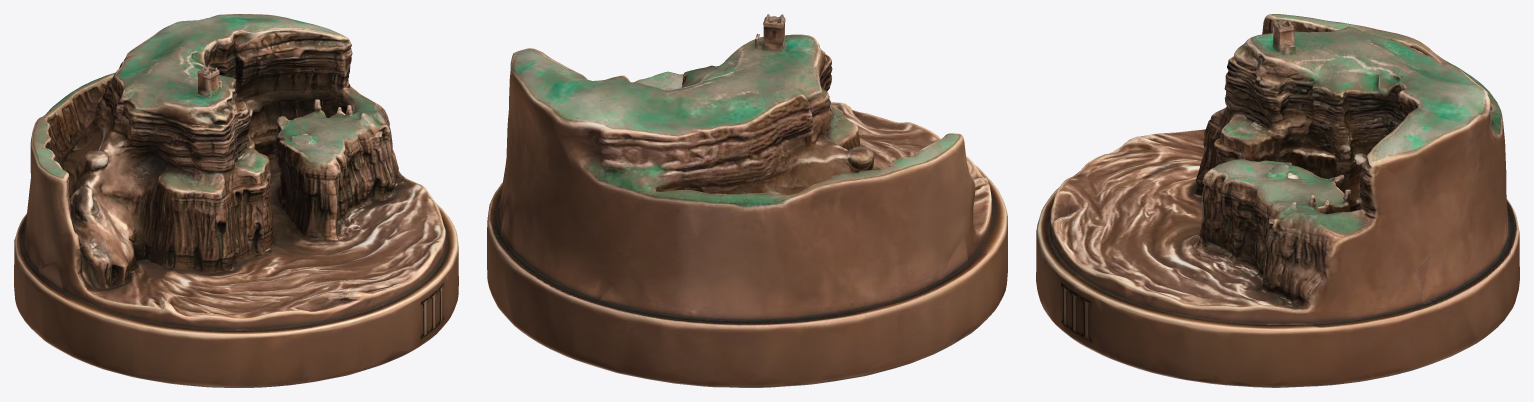
File: cliffs_of_moher_meshy.glb
3 views of the same model, side by side, from view 1: azimuth 30°, elevation 25°; view 2: azimuth 150°, elevation 25°; view 3: azimuth 270°, elevation 25° (orthographic). The views are drawn at different scales.
Visible parts, largest first — view 1: Mesh_0; view 2: Mesh_0; view 3: Mesh_0.
Part boxes in pixels (bbox=[...]): Mesh_0: bbox=[14, 14, 458, 387]; Mesh_0: bbox=[487, 14, 1007, 387]; Mesh_0: bbox=[1036, 14, 1519, 387].
Bounding box in the file's own units: 1.91 × 1.1 × 1.91.
Materials: 1 (1 with a texture image).
